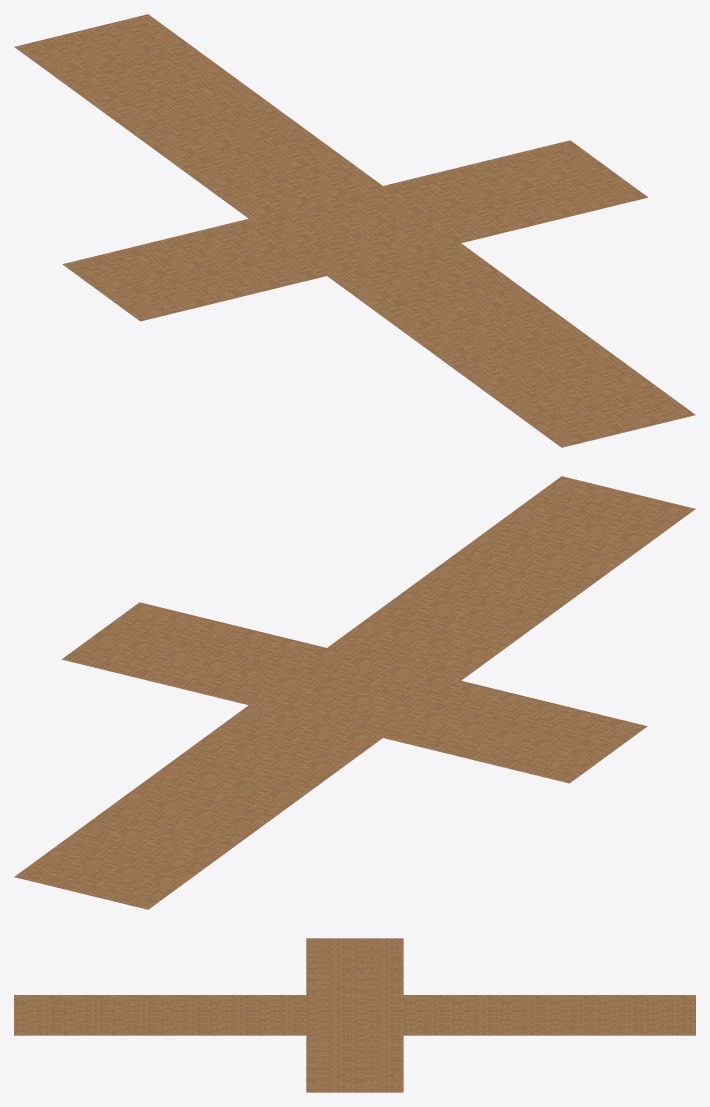
Rendered from pavimento.glb.
3 views of the same model, one above another, from view 1: azimuth 30°, elevation 25°; view 2: azimuth 150°, elevation 25°; view 3: azimuth 270°, elevation 25° (orthographic). The views are drawn at different scales.
Parts seen in each view (by area): view 1: pavimento.1; view 2: pavimento.1; view 3: pavimento.1.
Part boxes in pixels (x1,y1,x2,y2): pavimento.1: (14,14,695,447); pavimento.1: (14,476,695,909); pavimento.1: (14,938,695,1092).
Bounding box in the file's own units: 37.31 × 2.67e-05 × 69.66.
Materials: 1 (1 with a texture image).
